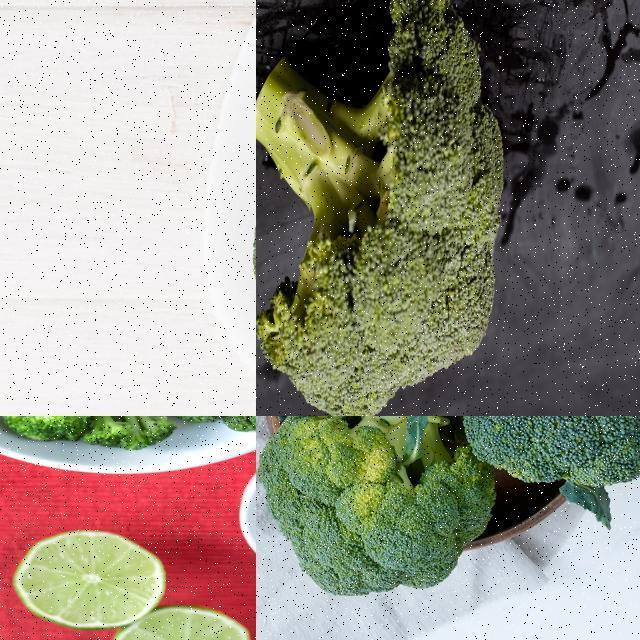broccoli: (256, 0, 509, 415), (256, 416, 487, 597), (464, 416, 639, 493)
